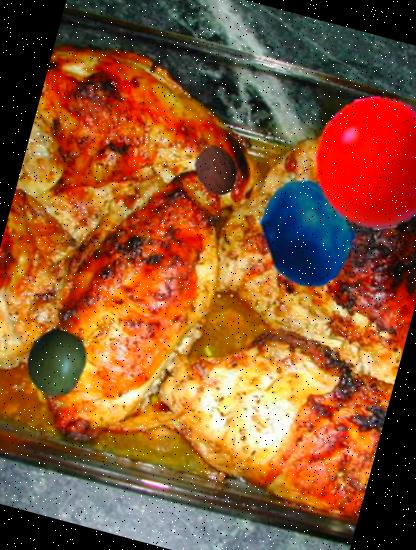Cocos: (186, 140, 247, 202)
Huckleberry: (243, 166, 378, 300)
Mango: (13, 319, 100, 406)
Tomato: (294, 82, 416, 244)
